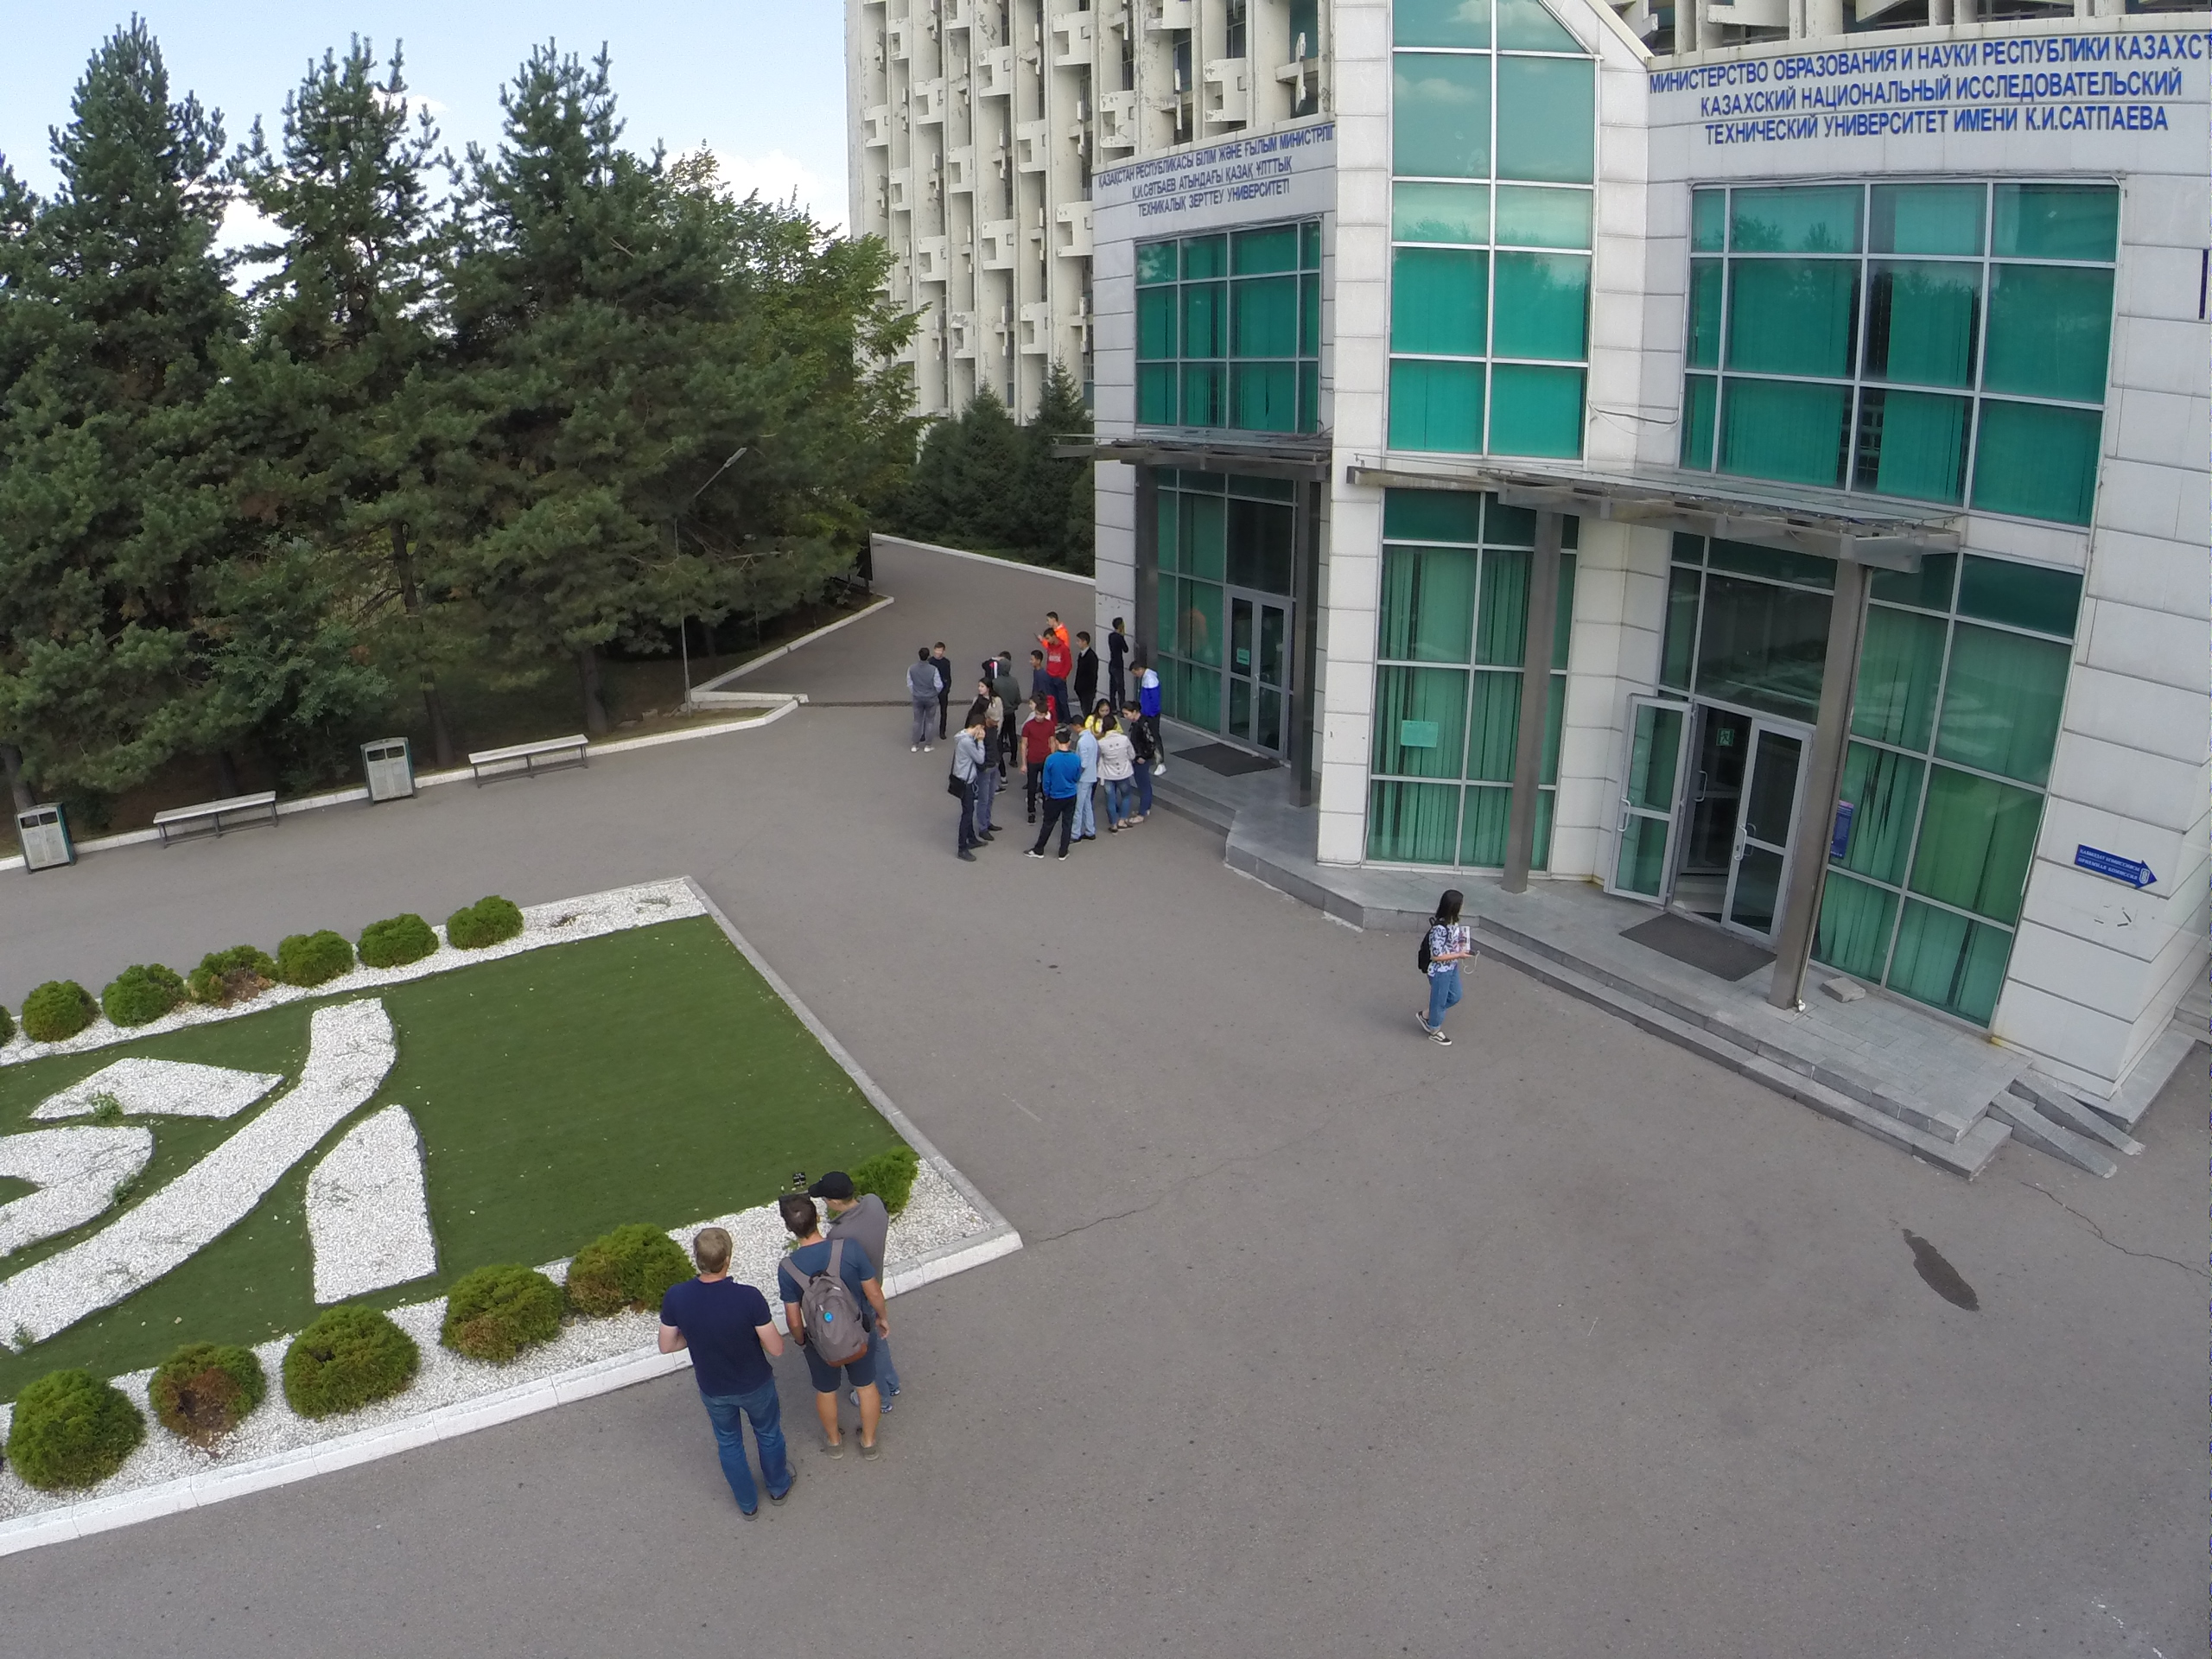person: (658, 1221, 801, 1526), (761, 1195, 883, 1459), (1408, 887, 1478, 1053), (807, 1170, 893, 1260), (950, 715, 987, 863), (1033, 731, 1073, 861), (1097, 718, 1136, 832), (1122, 702, 1156, 824), (1070, 716, 1102, 842), (1025, 702, 1055, 823), (904, 648, 942, 747), (973, 678, 1005, 796), (1072, 630, 1101, 709), (1105, 615, 1131, 699), (1045, 629, 1068, 706), (1028, 647, 1052, 697), (1133, 662, 1163, 699)
